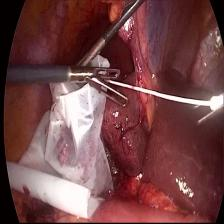Grasper: (68, 66, 129, 118), (69, 38, 102, 78)
Specimen Bag: (0, 35, 119, 222)
